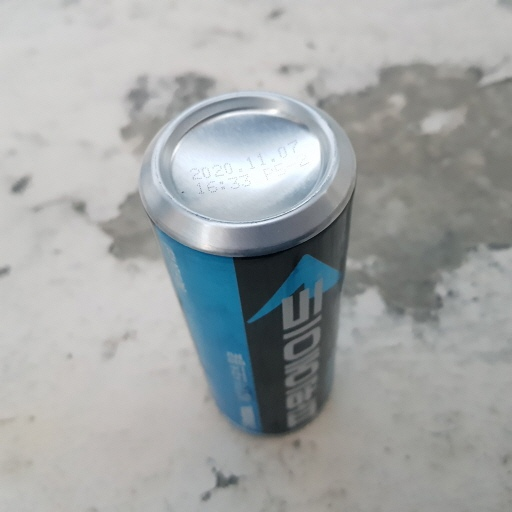Metal_0: (140, 90, 361, 437)
